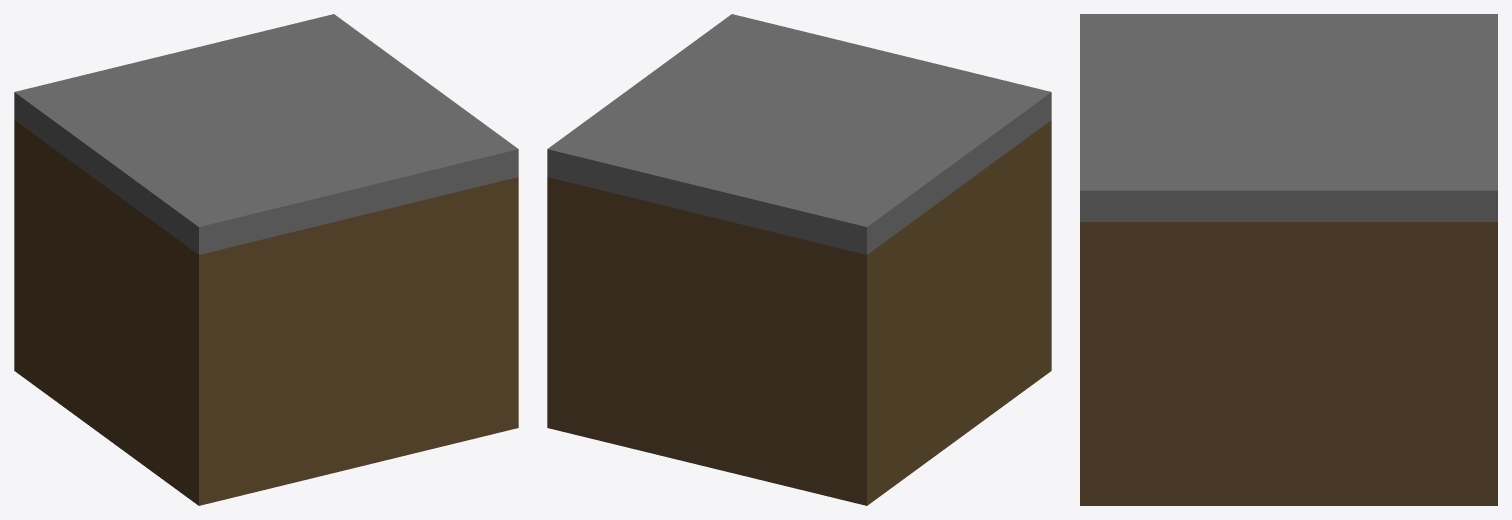
File: Counter_01.fbx
3 renders of one model, left to right at view 1: azimuth 30°, elevation 25°; view 2: azimuth 150°, elevation 25°; view 3: azimuth 270°, elevation 25°, orthographic. The views are drawn at different scales.
Parts seen in each view (by area): view 1: Counter_01; view 2: Counter_01; view 3: Counter_01.
Part boxes in pixels (left/top/right/bottom): Counter_01: left=14, top=14, right=518, bottom=505; Counter_01: left=547, top=14, right=1051, bottom=505; Counter_01: left=1080, top=14, right=1497, bottom=505.
Bounding box in the file's own units: 1.2 × 1 × 1.2.
